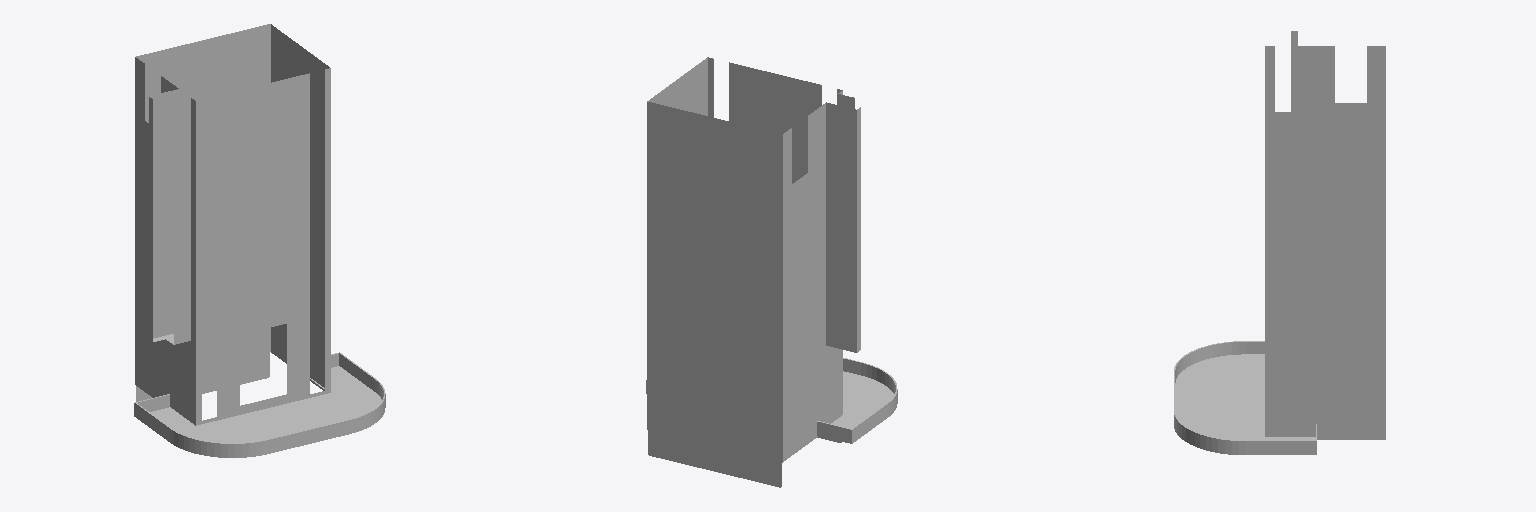
Rendered from a3_cut_0__2_1.obj.
The picture shows the model from 3 angles: view 1: azimuth 30°, elevation 25°; view 2: azimuth 150°, elevation 25°; view 3: azimuth 270°, elevation 25°; orthographic projection.
Visible parts, largest first — view 1: 0; view 2: 0; view 3: 0.
Part boxes in pixels (left/top/right/bottom): 0: left=134, top=24, right=385, bottom=457; 0: left=646, top=57, right=897, bottom=487; 0: left=1174, top=31, right=1385, bottom=454.
Size of the model in its own units: 304 by 500 by 272.